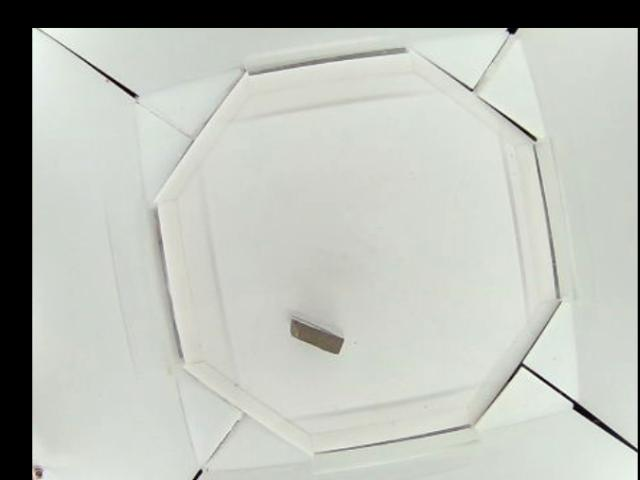China: (286, 316, 345, 357)
